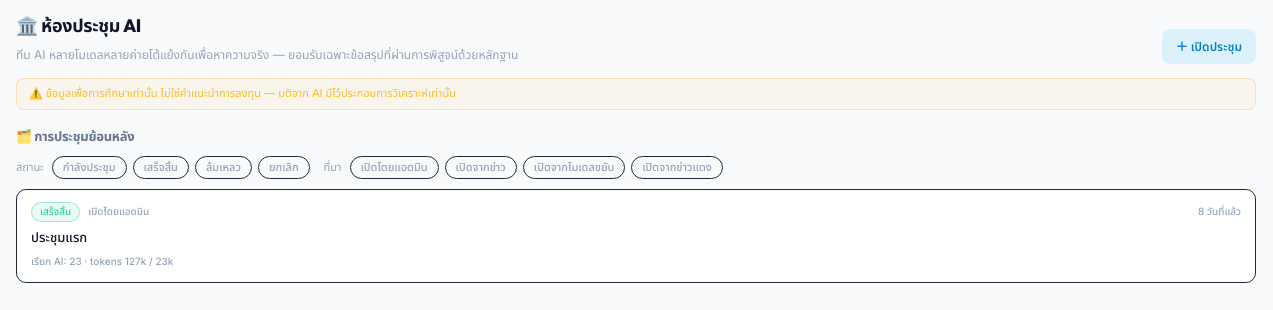
Scenario: BoardroomDashboard — ตัวกรองคลังประชุม (9.4) › กด "ล้มเหลว" → ส่ง status=failed ไป API (กรองที่ server ไม่ใช่ในหน้า)
This screenshot has width=1273, height=310.
expect the text "ประชุมแรก" is shown: met, box [31,229,87,245]
Click the button "ล้มเหลว" at (223, 168), box [195,156,252,179]
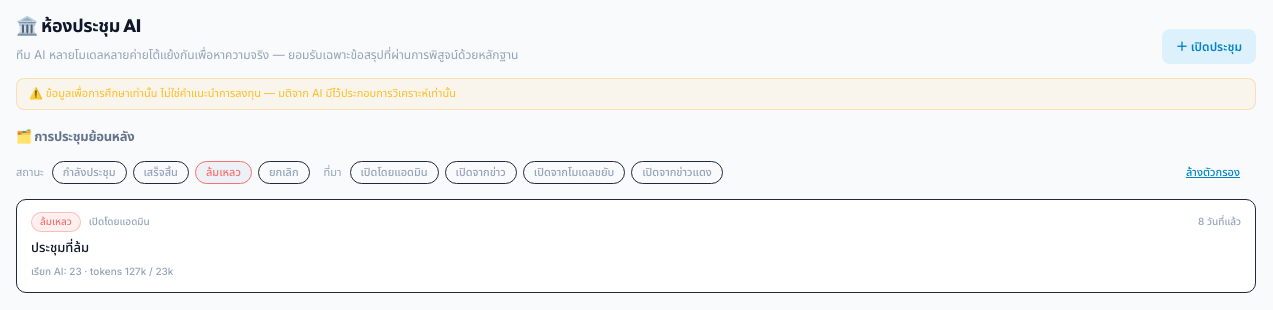
expect the text "ประชุมที่ล้ม" is shown: met, box [31,239,89,255]
